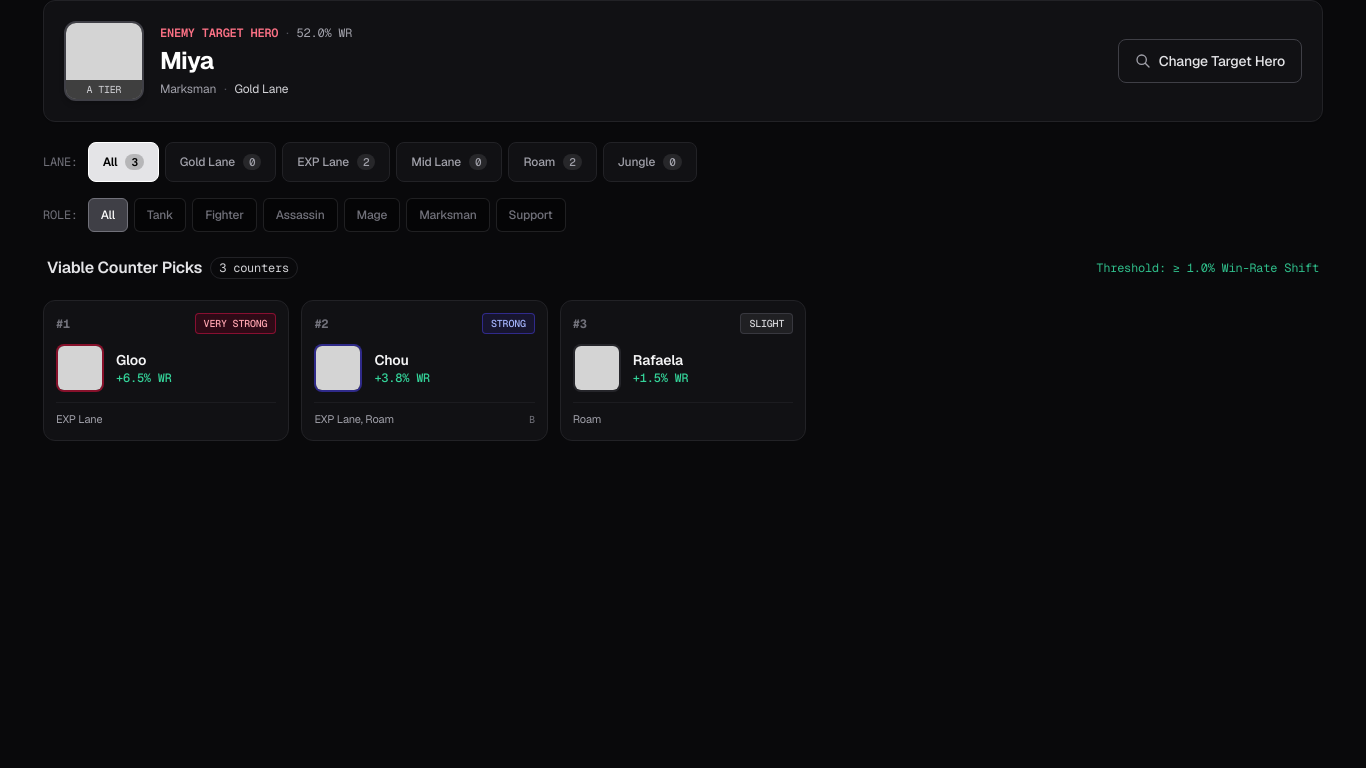
Test: CounterView Component › allows changing the target enemy hero via the search picker
The image size is (1366, 768).
Note: Open hero picker
What coordinates should you click on to do the following:
click the button with test id "change-target-hero-btn"
I would click on:
 (1210, 61)
Its box is [1118,39,1302,83].
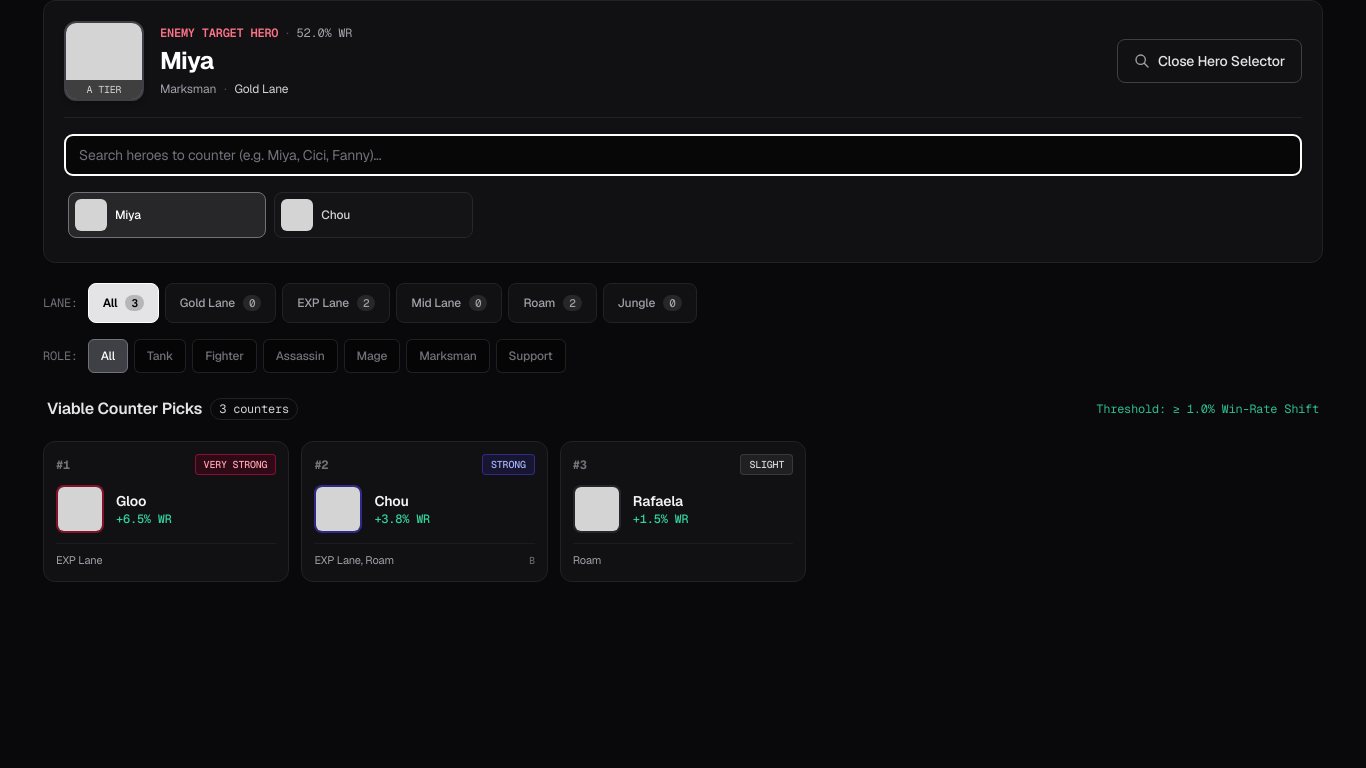
Expected: the element with test id "hero-picker-panel" is shown, [64,117,1302,242]
Note: Select Chou as new target hero
What coordinates should you click on to do the following:
click the button with test id "picker-hero-26"
I would click on:
 (373, 215)
Its box is [274,192,473,238].
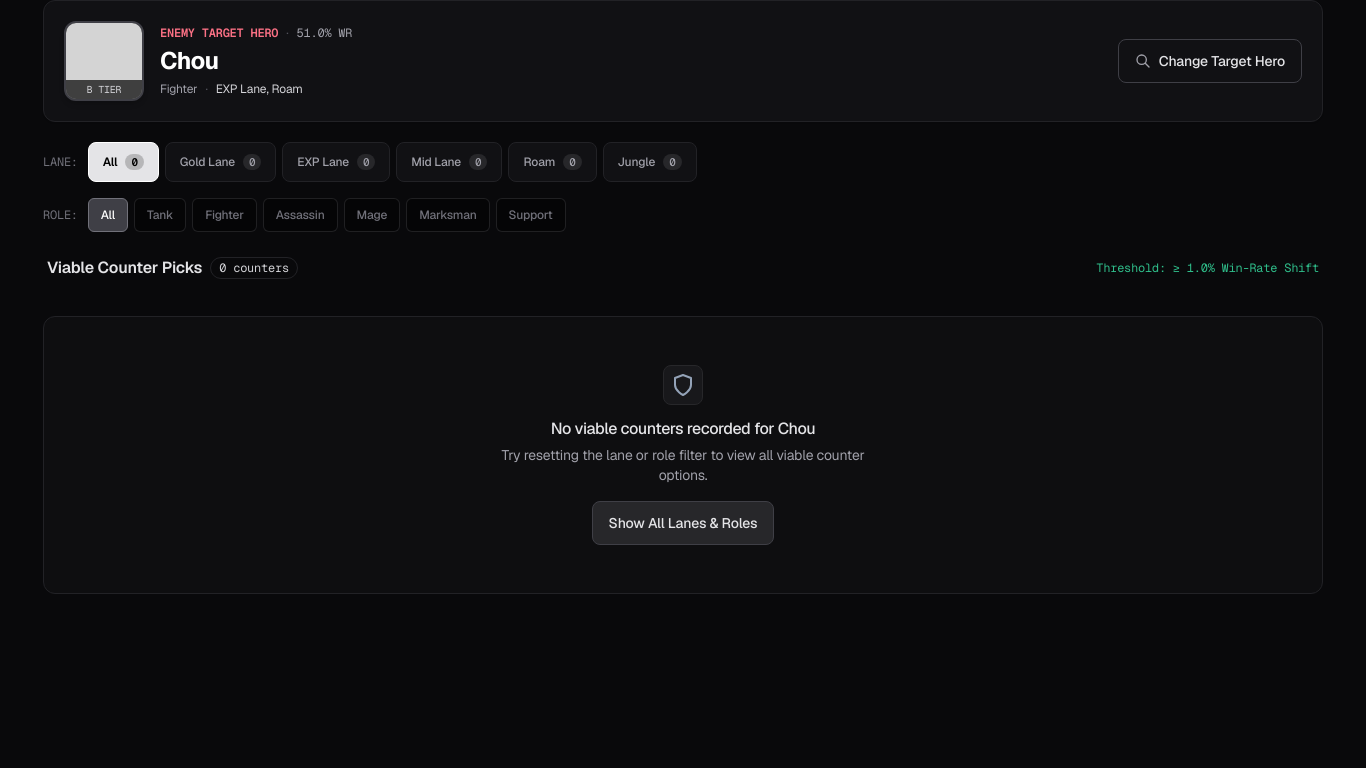
Expected: the heading with test id "target-hero-title" reads "Chou", [160,45,218,76]
